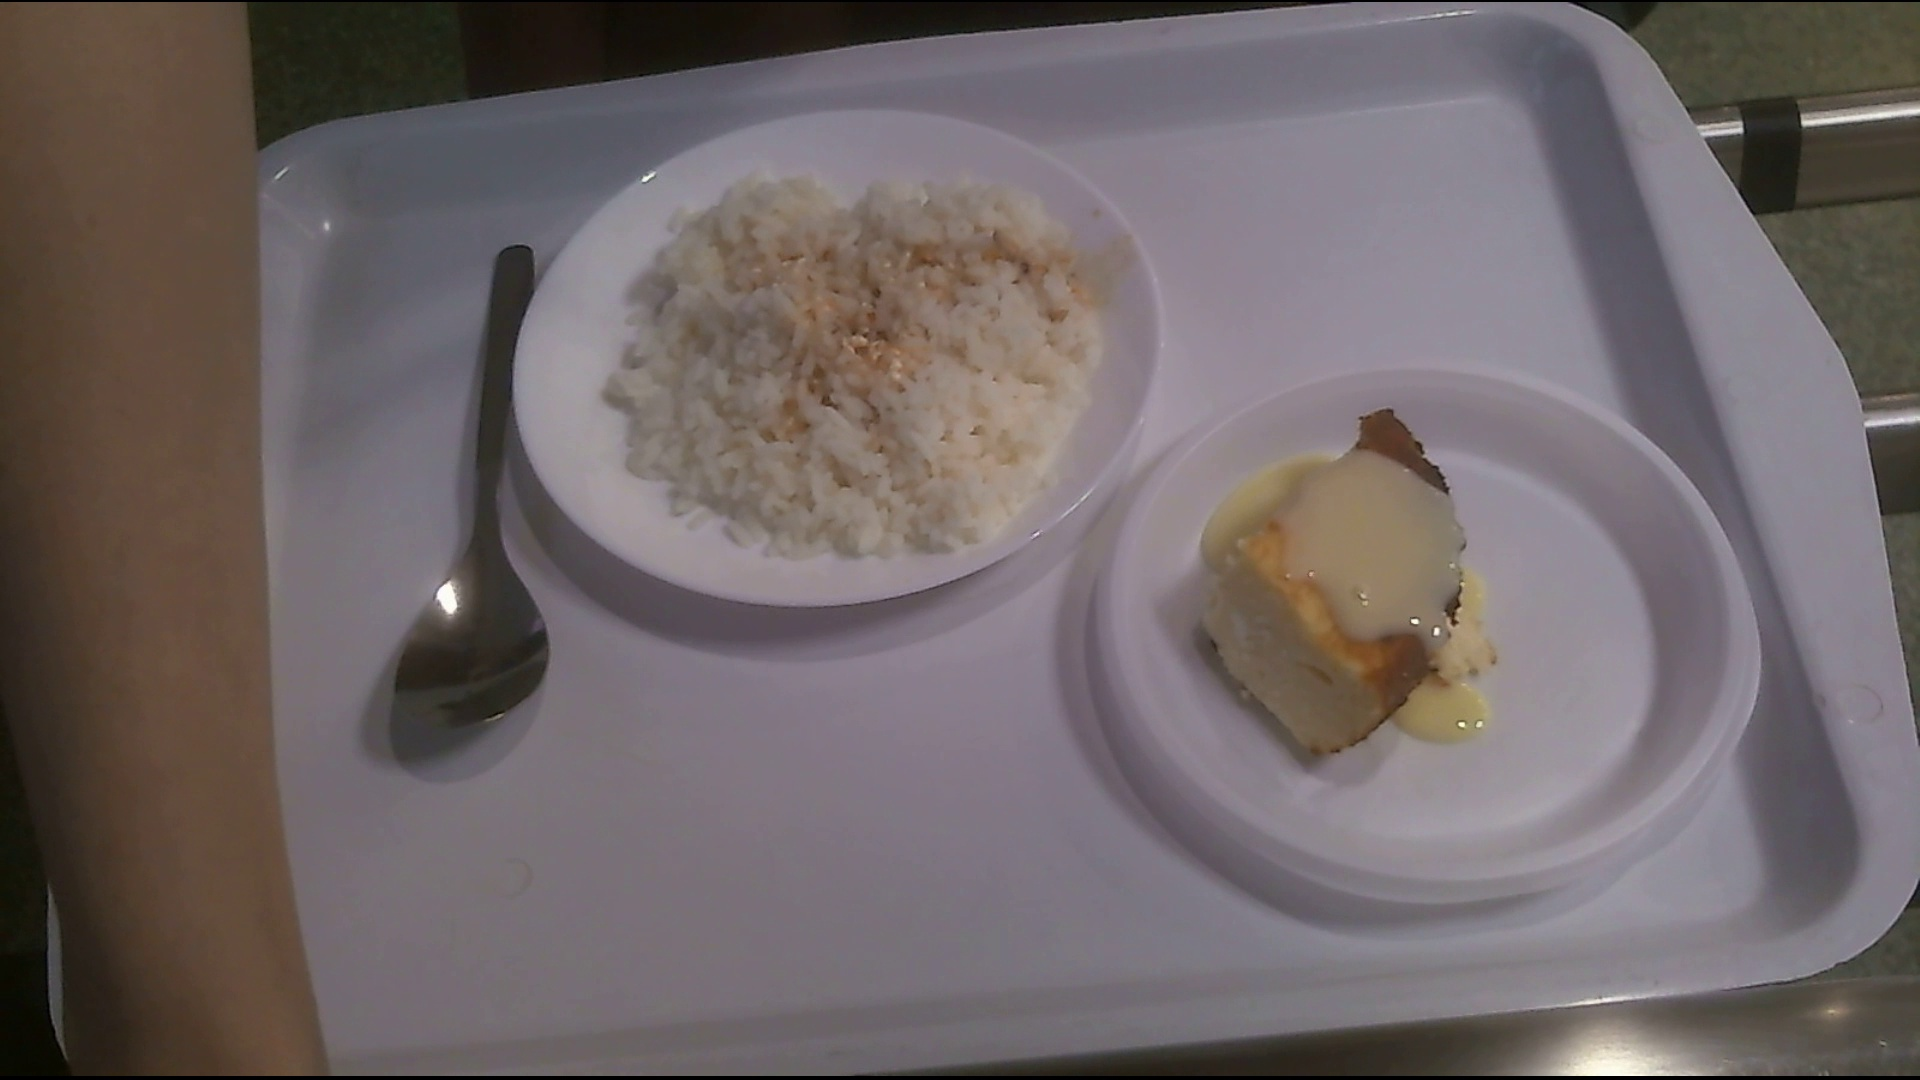cutlery: (392, 227, 556, 738)
plate: (1091, 367, 1767, 935), (509, 107, 1154, 604)
